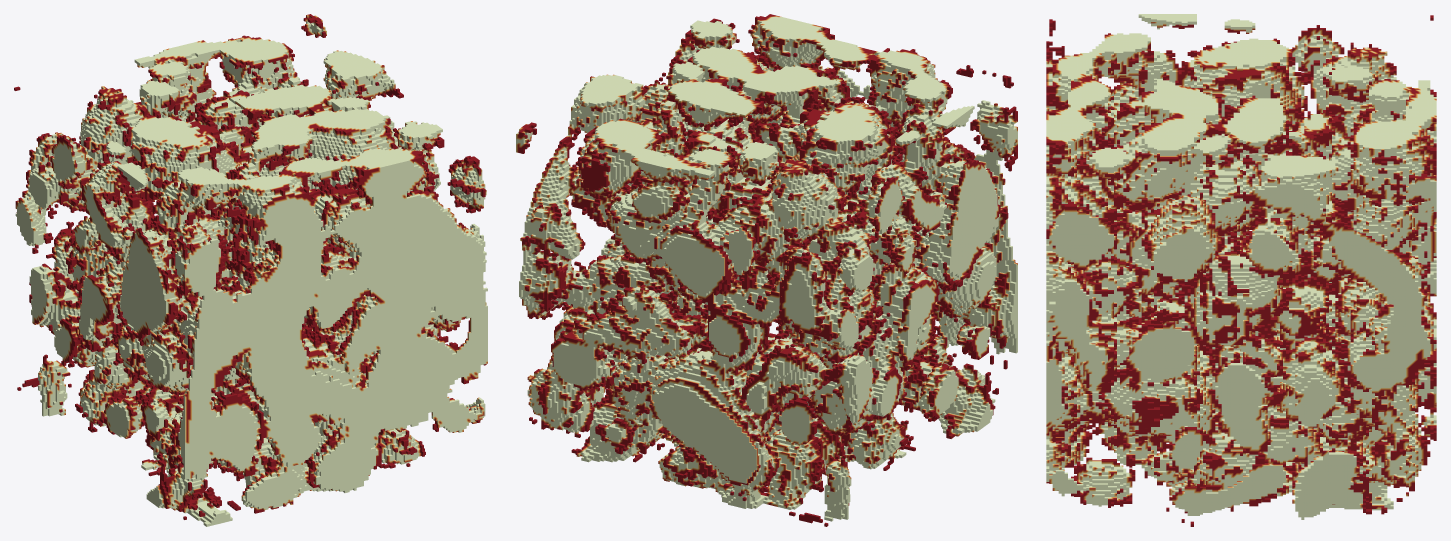
The model's file is recon_testing_volume_0008.gltf.
3 renders of one model, left to right at view 1: azimuth 30°, elevation 25°; view 2: azimuth 150°, elevation 25°; view 3: azimuth 270°, elevation 25°, orthographic. The views are drawn at different scales.
Parts seen in each view (by area): view 1: Renderer Node; view 2: Renderer Node; view 3: Renderer Node.
Part boxes in pixels (x1,y1,x2,y2): Renderer Node: (14, 14, 487, 526); Renderer Node: (516, 14, 1017, 526); Renderer Node: (1046, 14, 1436, 526).
Size of the model in its own units: 127 by 127 by 127.
1 material, 1 textured.
